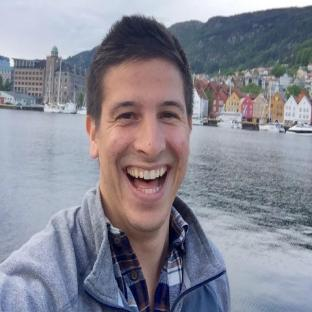Human: (0, 15, 230, 311)
